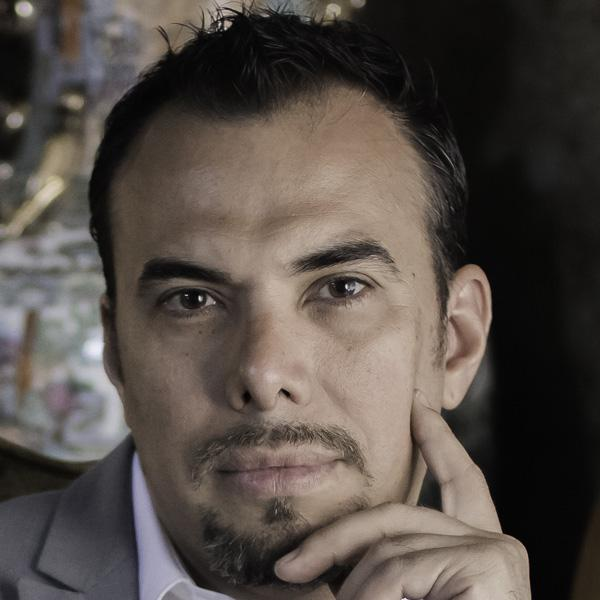Eyes: (291, 262, 392, 321), (146, 278, 228, 326)
